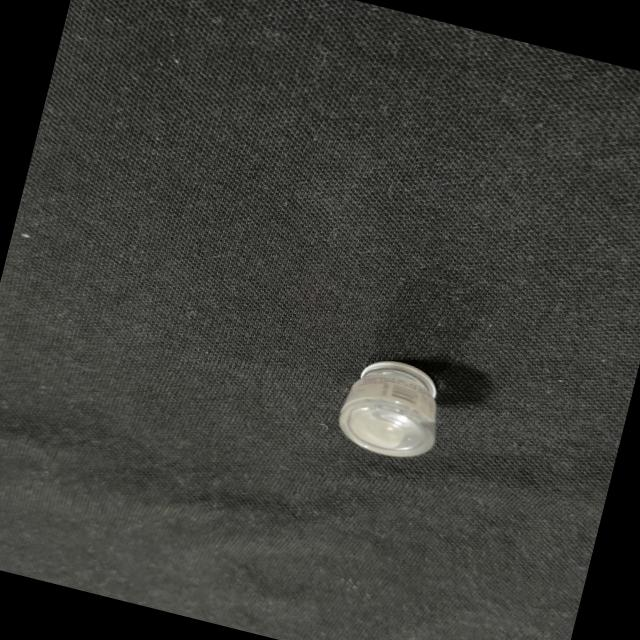fentanl_citrat: (334, 352, 450, 463)
